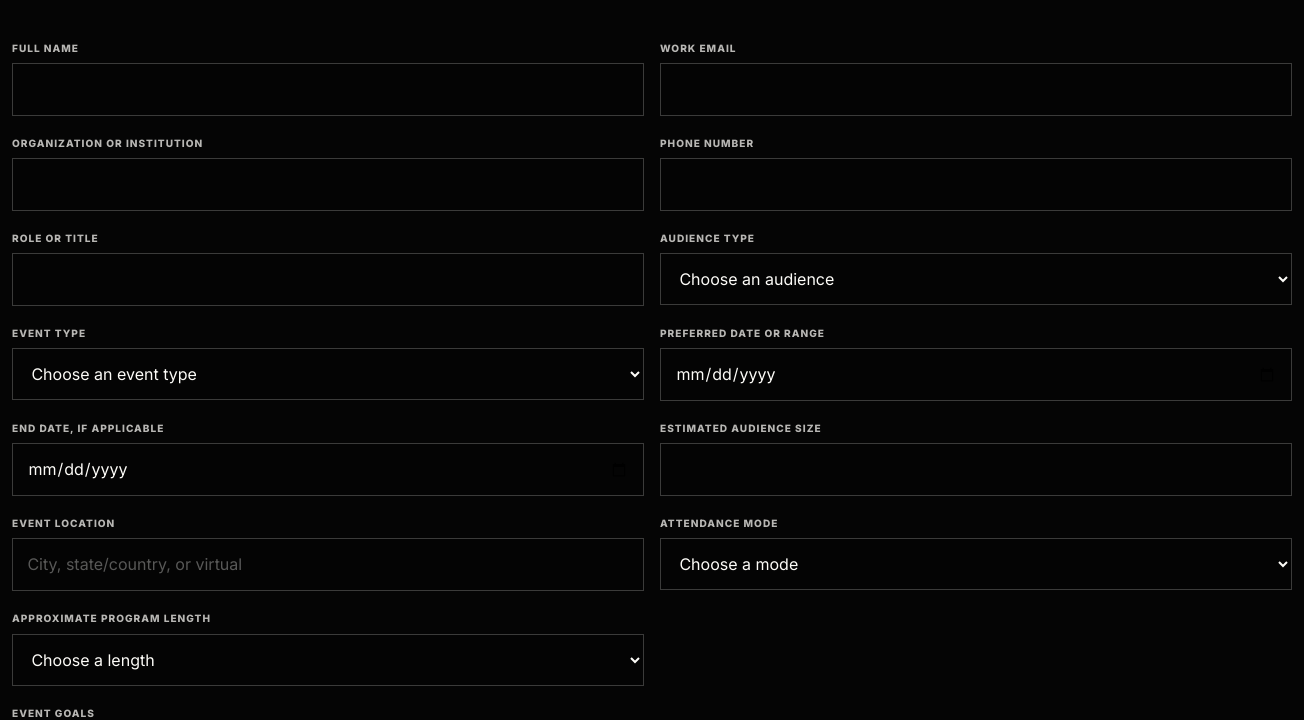
Test: BookingForm › reveals the conditional audience field
Select "Other" in the dropdown labelled "Audience type" at [976, 279], box left=660, top=253, right=1292, bottom=305
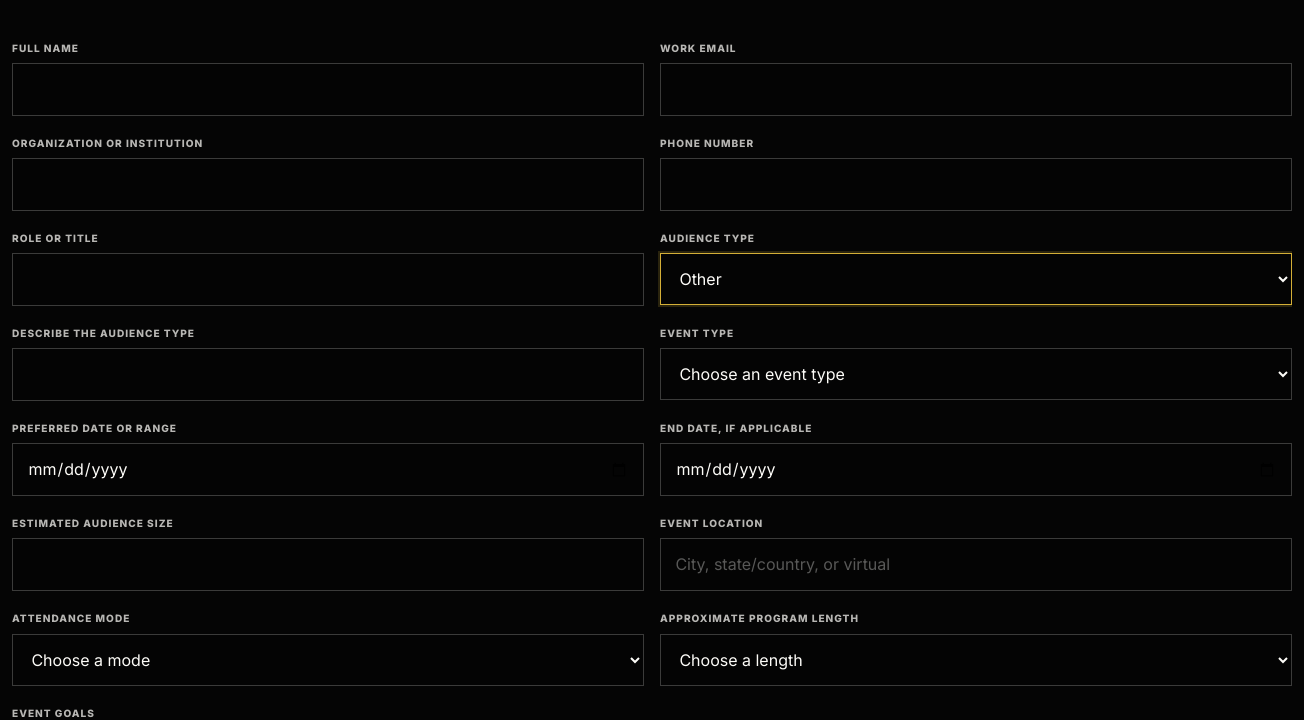
Check: the field labelled "Describe the audience type" is shown, box left=12, top=348, right=644, bottom=401
